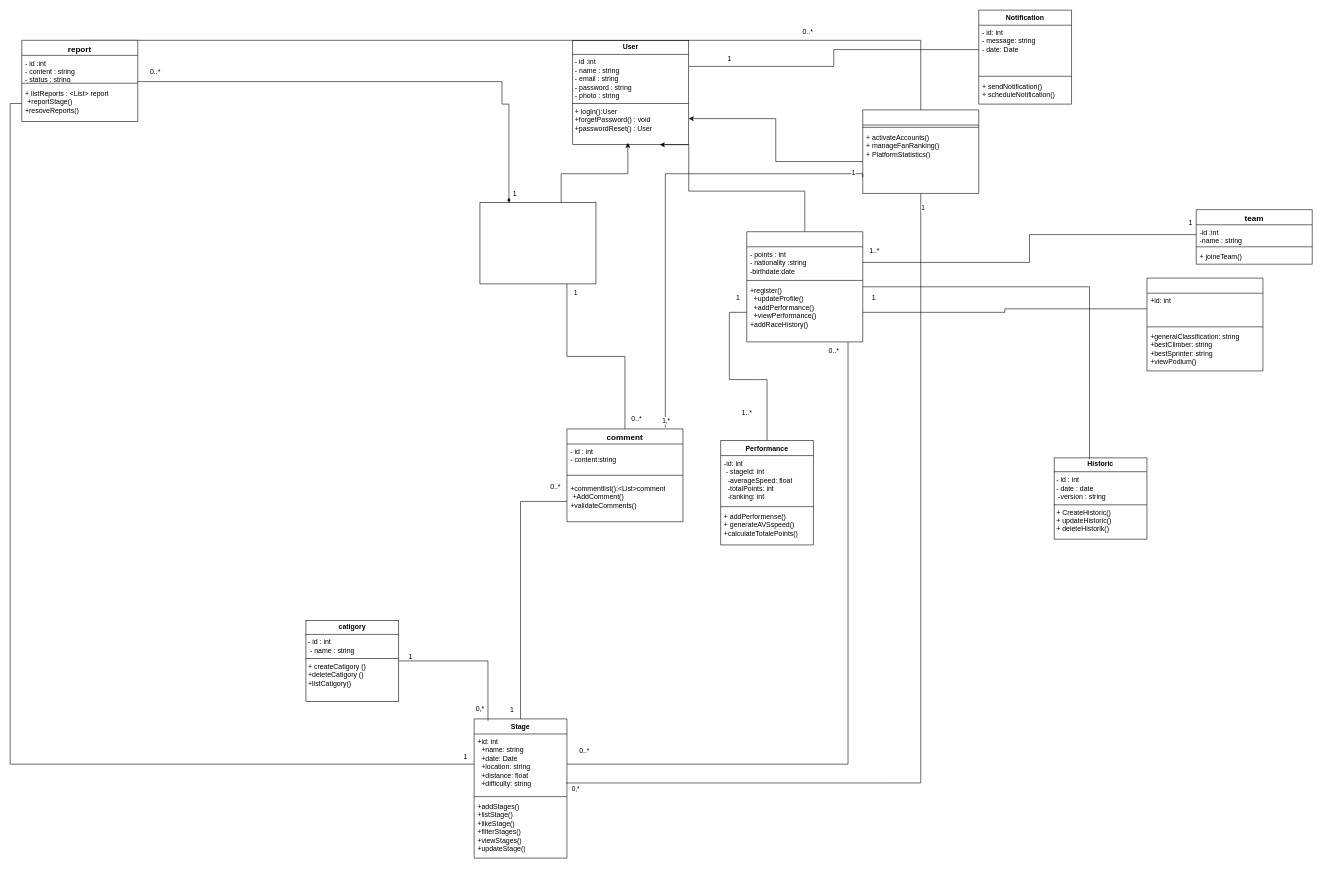
This 1322x870 diagram has some shape labels left out. Here are the shapes that lost their labels. From the top down, the box of each, then its label:
(862, 109, 979, 193): Admine
(479, 202, 596, 284): Fan +createVirtualTeam() +searchCyclist() +watchVideos() +viewHistory()
(746, 231, 863, 342): CYCLISTS
(1146, 278, 1263, 371): Ranking
